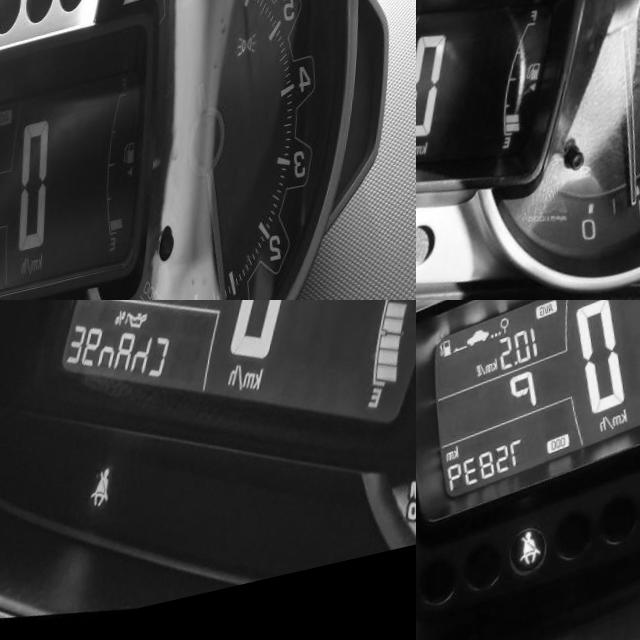SideLamp: (241, 51, 263, 78)
